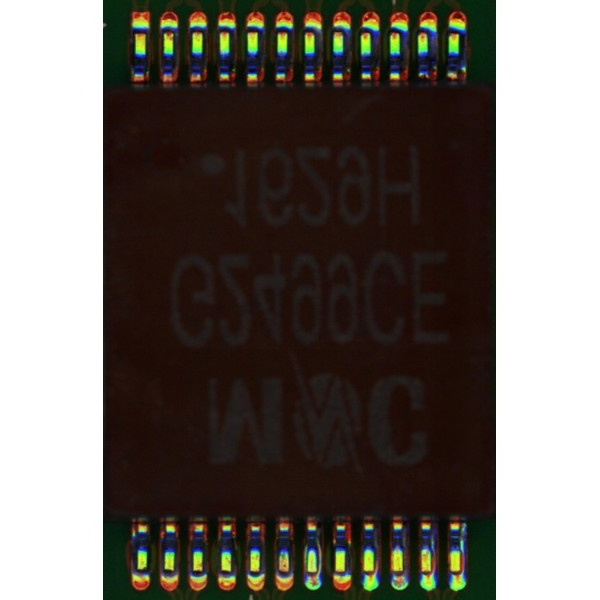Bad_podu: (452, 564, 461, 582), (365, 565, 373, 581), (395, 563, 402, 581), (422, 567, 432, 579), (308, 570, 317, 581)
Bad_qiaojiao: (457, 532, 465, 571), (431, 531, 437, 571), (316, 532, 322, 572)
